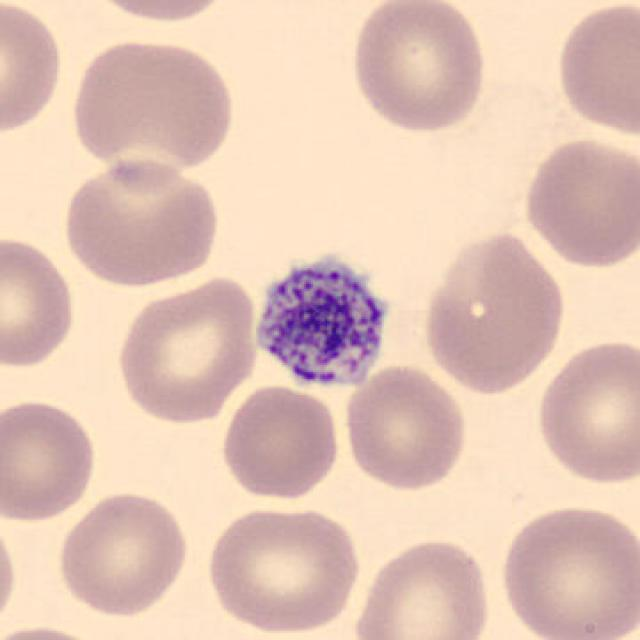Platelets: (246, 242, 398, 398)
RBC: (418, 228, 570, 398), (66, 33, 240, 180), (112, 272, 261, 426), (59, 153, 224, 290), (201, 501, 364, 636), (494, 499, 638, 640), (347, 0, 492, 136), (53, 486, 192, 618), (341, 362, 471, 494), (519, 132, 638, 272), (532, 335, 638, 487), (348, 534, 494, 640), (217, 382, 343, 502), (0, 394, 101, 525), (551, 0, 638, 139), (0, 231, 80, 370), (0, 0, 67, 139), (78, 0, 240, 26), (0, 507, 21, 636), (0, 622, 112, 640)
